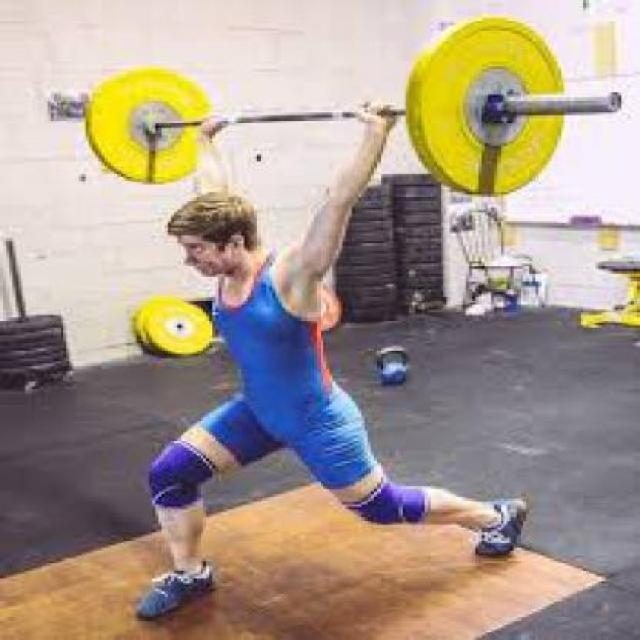barbell: (388, 9, 588, 206)
